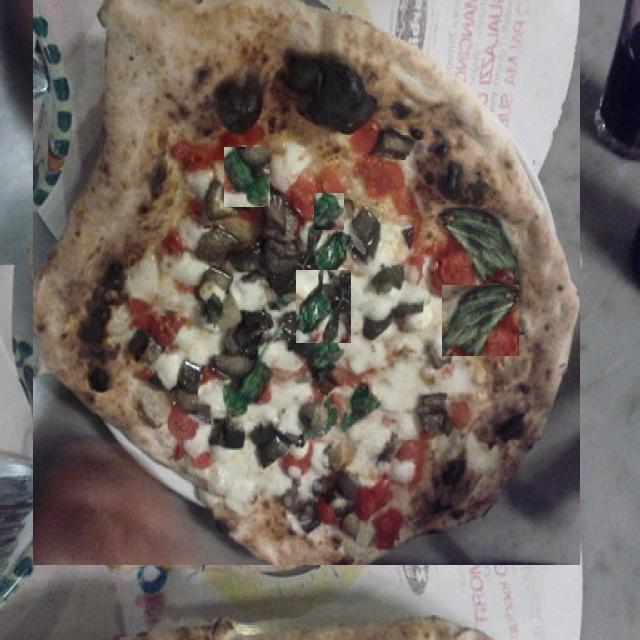basil: (443, 286, 519, 358), (297, 270, 351, 343), (226, 147, 272, 207), (342, 133, 382, 181), (302, 122, 341, 168), (316, 193, 346, 230)
pizza: (34, 0, 582, 565)
